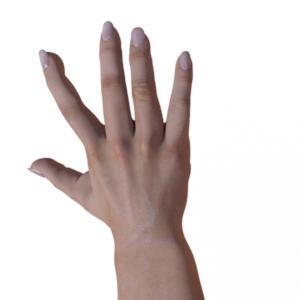paper: (30, 22, 195, 273)
